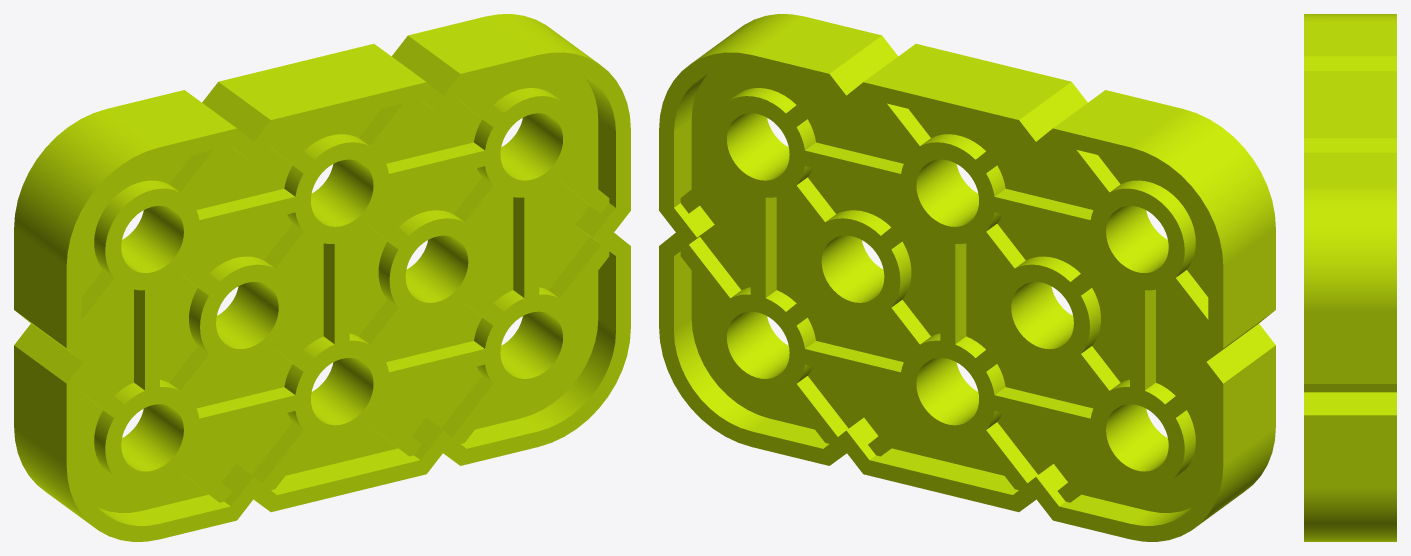
The picture shows the model from 3 angles, left to right: view 1: azimuth 30°, elevation 25°; view 2: azimuth 150°, elevation 25°; view 3: azimuth 270°, elevation 25°; orthographic projection. The views are drawn at different scales.
Visible parts, largest first — view 1: main_97d700; view 2: main_97d700; view 3: main_97d700.
Part boxes in pixels (x1,y1,x2,y2): main_97d700: [14, 14, 630, 541]; main_97d700: [659, 14, 1275, 541]; main_97d700: [1304, 14, 1396, 541].
Size of the model in its own units: 37.8 by 25.1 by 6.1.
